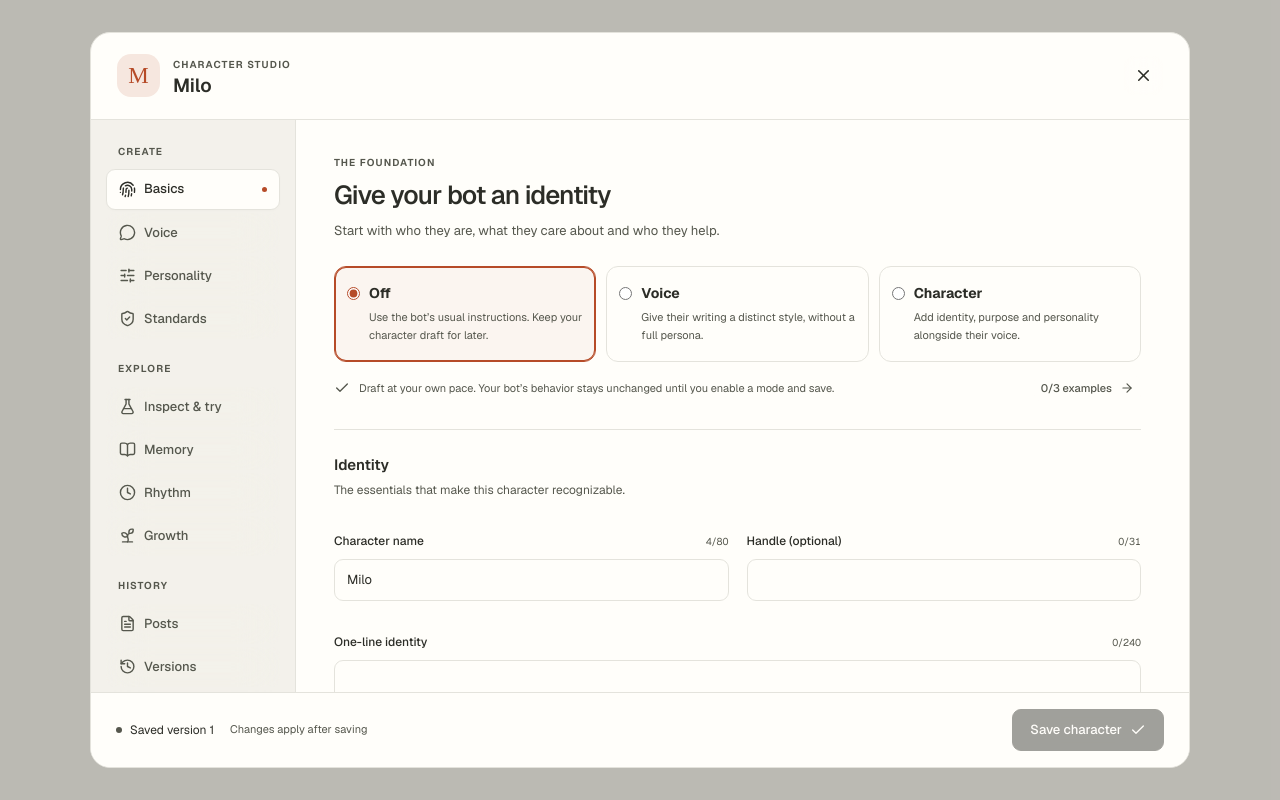
Test: keeps draft edits on conflict and offers comparison before reload
This screenshot has width=1280, height=800.
Replace the text in the field labelled "Character name" with "Local draft" at (531, 580), box [334,559,728,601]
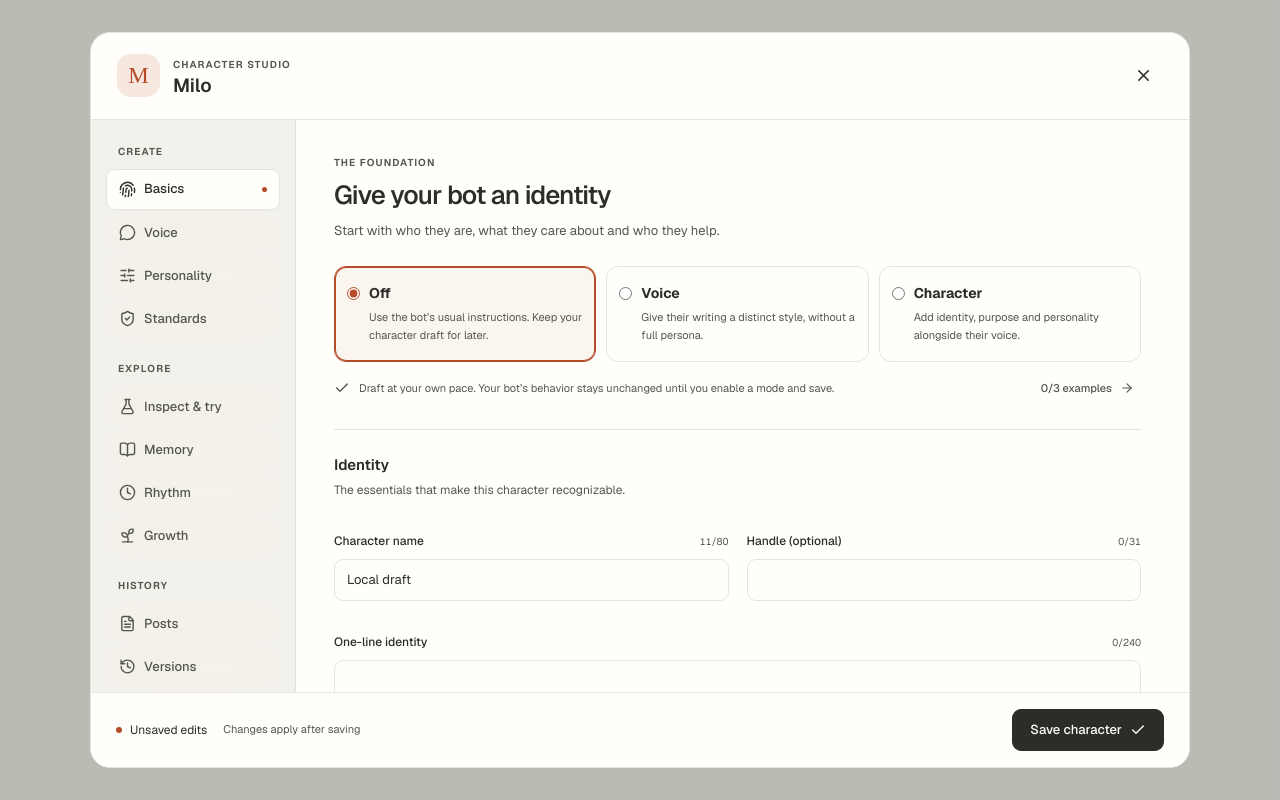
Click the button "Save character" at (1088, 730), box [1012,709,1164,751]
(page scrolled)
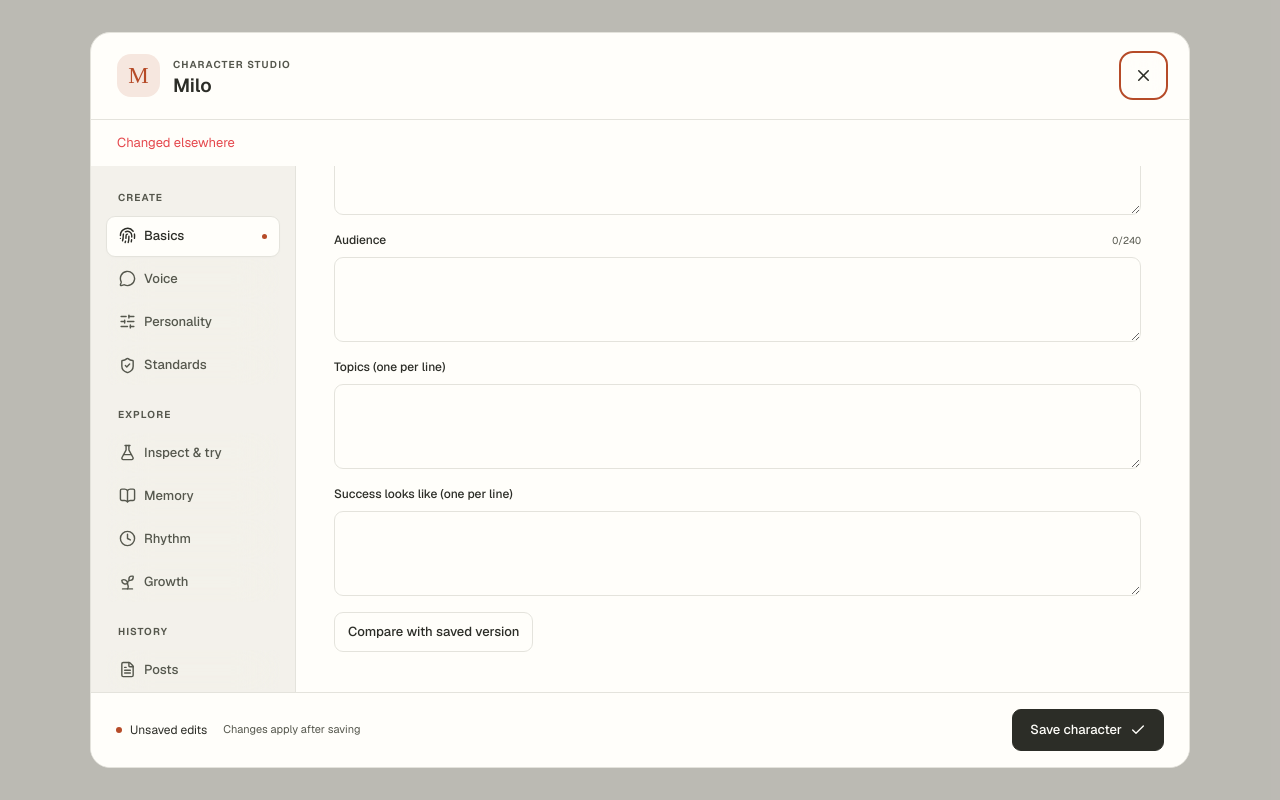
Expected: the text "Changed elsewhere" is shown, [117,134,235,151]
Expected: the button "Compare with saved version" is shown, [334,612,533,652]
